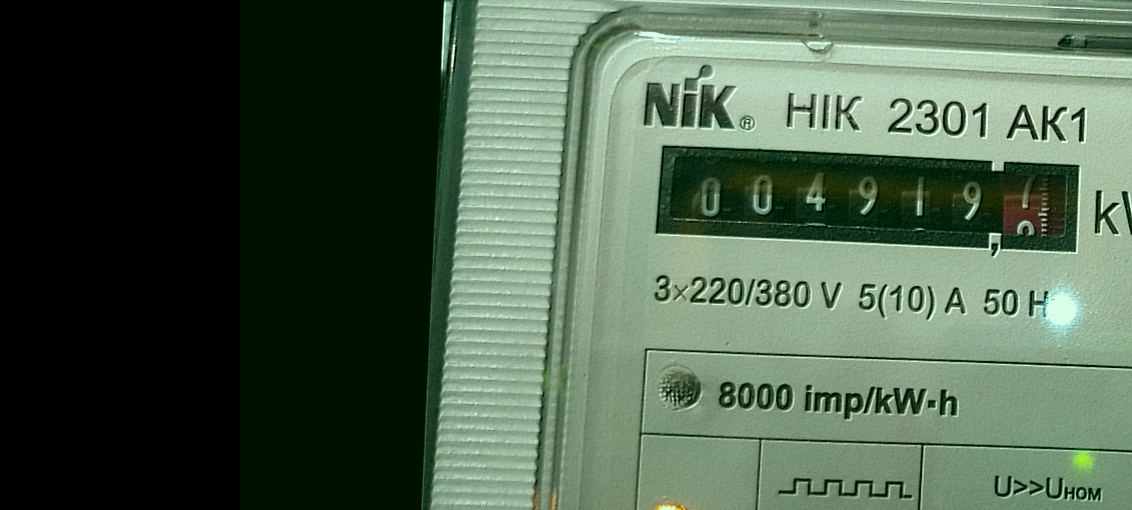0: (749, 170, 777, 217), (698, 173, 724, 218)
1: (912, 172, 929, 218)
4: (803, 168, 829, 212)
7: (1013, 170, 1038, 211)
9: (959, 177, 985, 224), (856, 173, 881, 218)
screen: (644, 130, 1098, 270)
